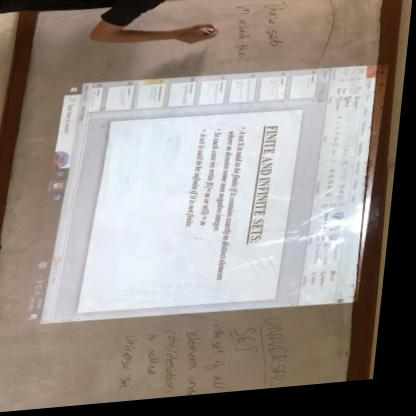Handwritten text: (265, 319, 301, 394), (210, 330, 241, 396), (225, 8, 260, 66), (261, 5, 297, 57), (118, 335, 149, 394), (168, 332, 192, 398), (146, 332, 171, 386), (188, 328, 214, 379), (239, 327, 270, 364)
Whiteboard: (0, 0, 390, 413)
